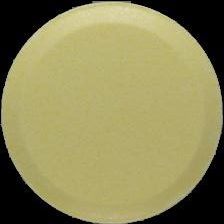51285-692: (0, 0, 224, 224)
